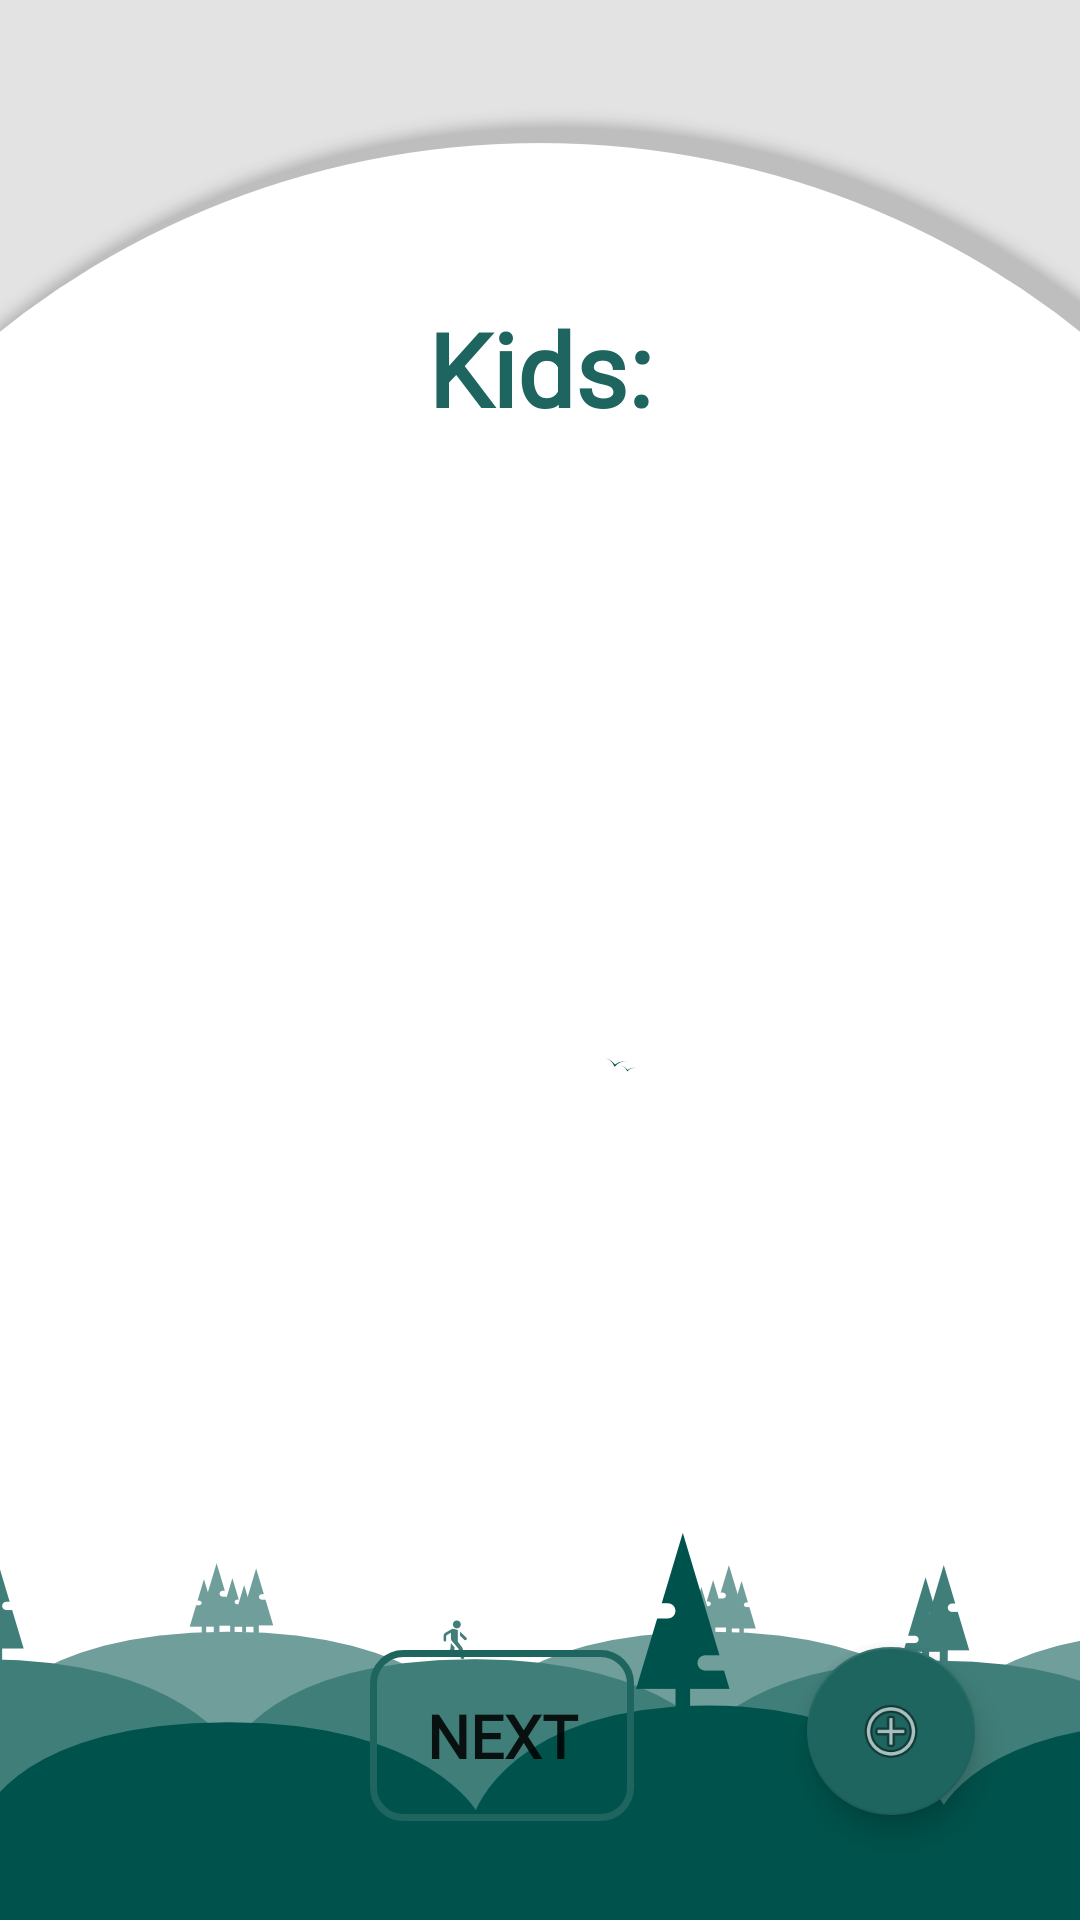

Named icons in this screenshot (1080 x 1920) and their centers, [x,y]:
add: [891,1731]
